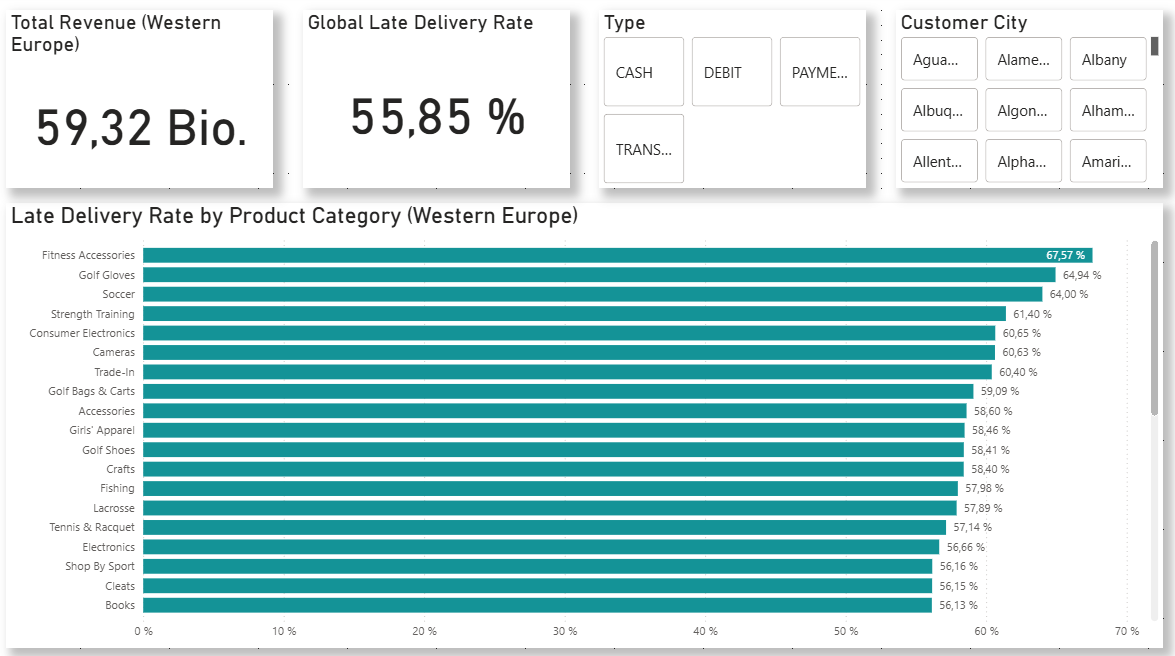

The page's visual inventory and layout, read from the dashboard file:
{"tool":"powerbi","page":{"name":"Seite 1","canvas":[1280,720],"ordinal":0},"visuals":[{"type":"barChart","title":"Late Delivery Rate by Product Category (Western Europe)","fields":{"Category":["SupplyChain_Cleaned_Small.Category Name"],"Y":["SupplyChain_Cleaned_Small.-- MEASURE: Late Delivery Rate-- DESCRIPTION: Calculates the percentage of late orders to iden"]},"box":[16,224,1248,480],"z":0},{"type":"card","title":"Total Revenue (Western Europe)","fields":{"Values":["Sum(SupplyChain_Cleaned_Small.Order Item Total)"]},"box":[16,16,288,192],"z":1000},{"type":"card","title":"Global Late Delivery Rate","fields":{"Values":["SupplyChain_Cleaned_Small.-- MEASURE: Late Delivery Rate-- DESCRIPTION: Calculates the percentage of late orders to iden"]},"box":[336,16,288,192],"z":2000},{"type":"advancedSlicerVisual","fields":{"Values":["SupplyChain_Cleaned_Small.Type"]},"box":[656,16,288,192],"z":3000},{"type":"advancedSlicerVisual","fields":{"Values":["SupplyChain_Cleaned_Small.Customer City"]},"box":[976,16,288,192],"z":4000}]}

Visuals, with their boxes in screenshot pixels (x1, y1, x2, y2), scaled from the page's 1280x720 canvas onto the 1175x656 screenshot:
"Late Delivery Rate by Product Category (Western Europe)" barChart: locate(15, 204, 1160, 641)
"Total Revenue (Western Europe)" card: locate(15, 15, 279, 190)
"Global Late Delivery Rate" card: locate(308, 15, 573, 190)
advancedSlicerVisual - SupplyChain_Cleaned_Small.Type: locate(602, 15, 867, 190)
advancedSlicerVisual - SupplyChain_Cleaned_Small.Customer City: locate(896, 15, 1160, 190)
